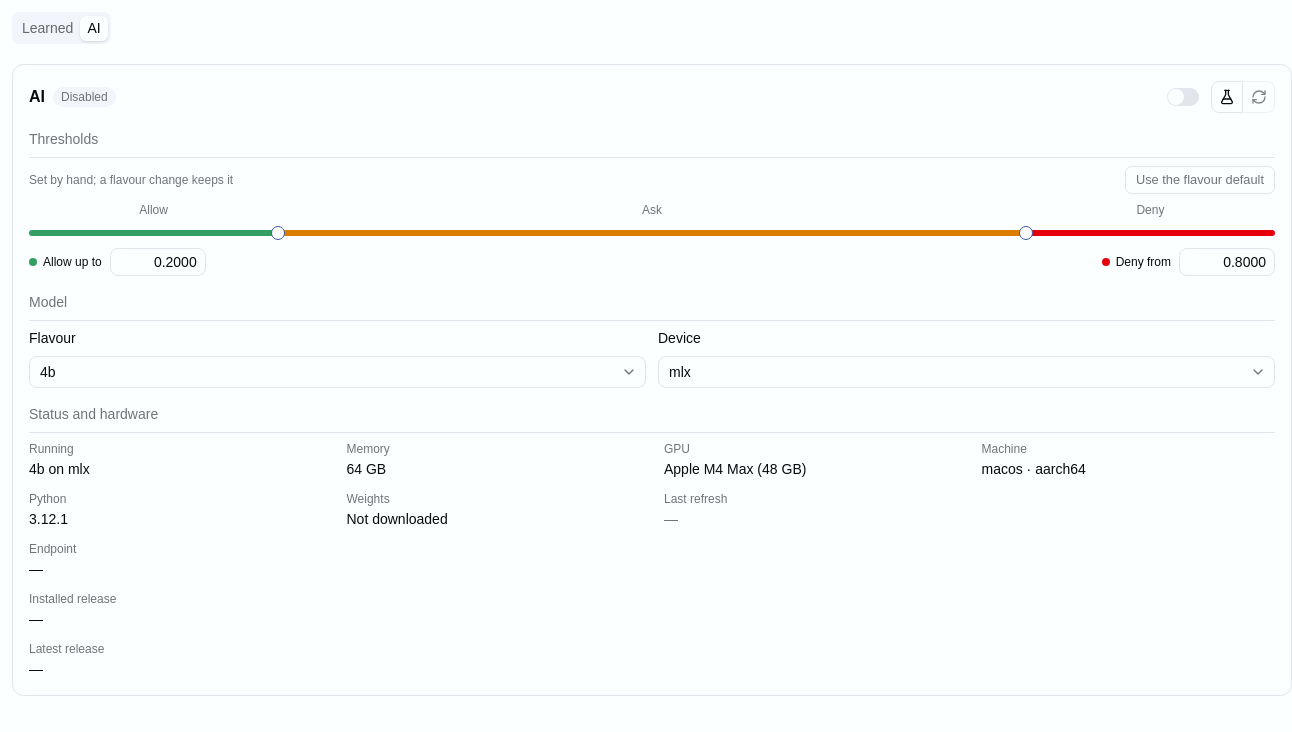
Test case: the model pickers › shows the resource reason before an unavailable platform reason
The width and height of the screenshot is (1292, 732).
Step 1. Click the dropdown named "Flavour" → (48, 372), box [29, 356, 646, 388]
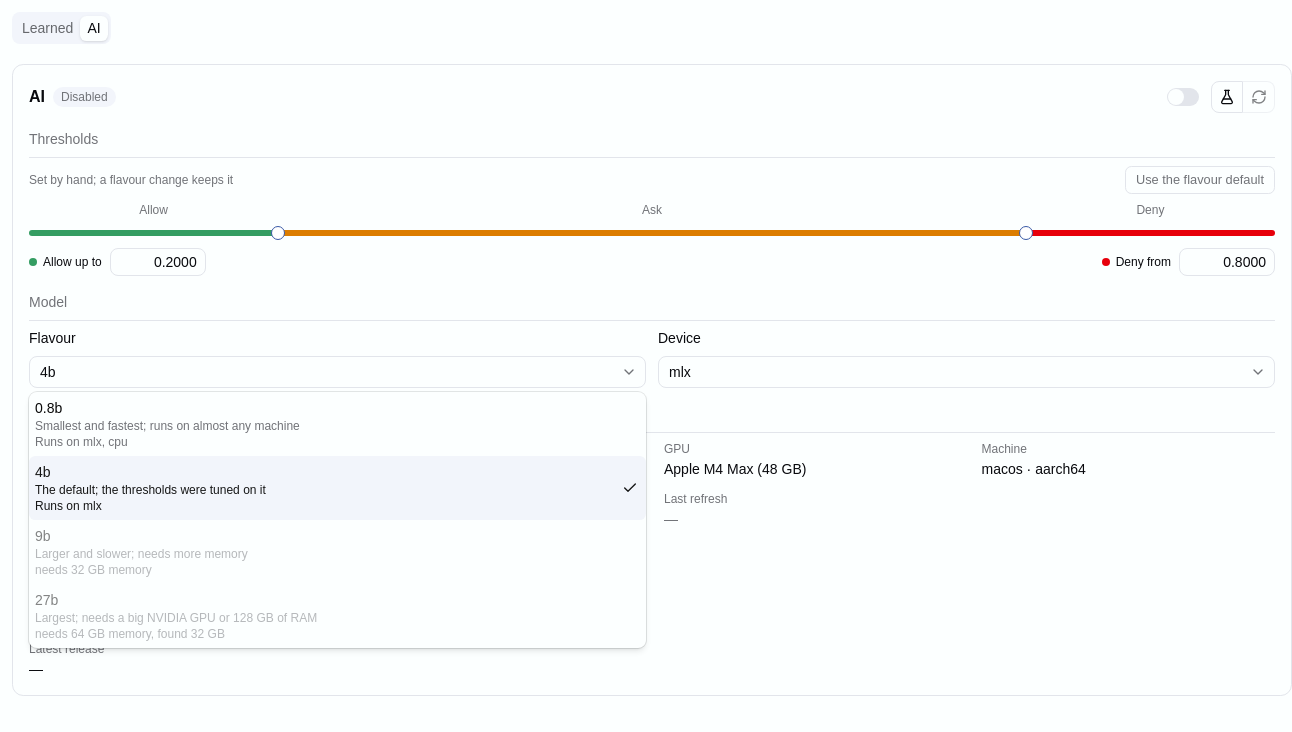
Check: the option that starts with "27b" is shown, box [35, 592, 317, 641]
